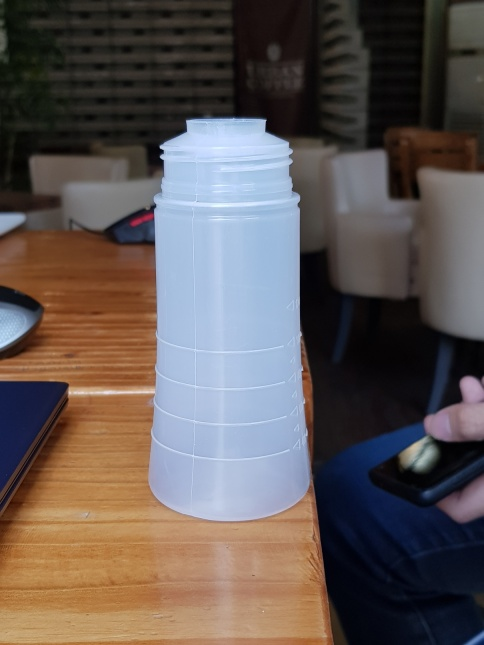Plastic: (134, 108, 321, 529)
